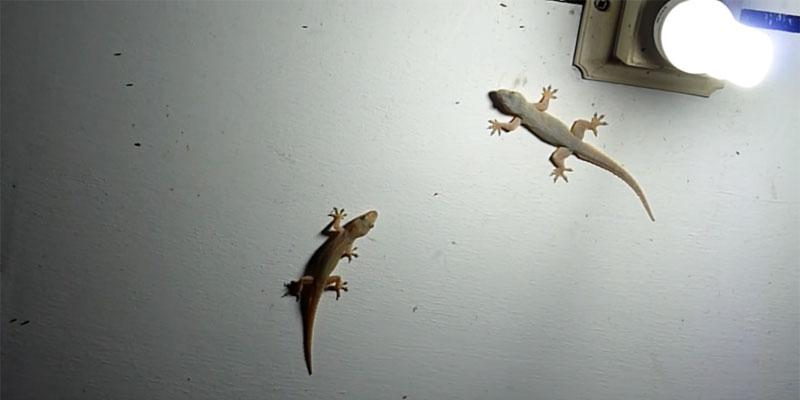lizard: (486, 80, 655, 223), (270, 203, 380, 377)
